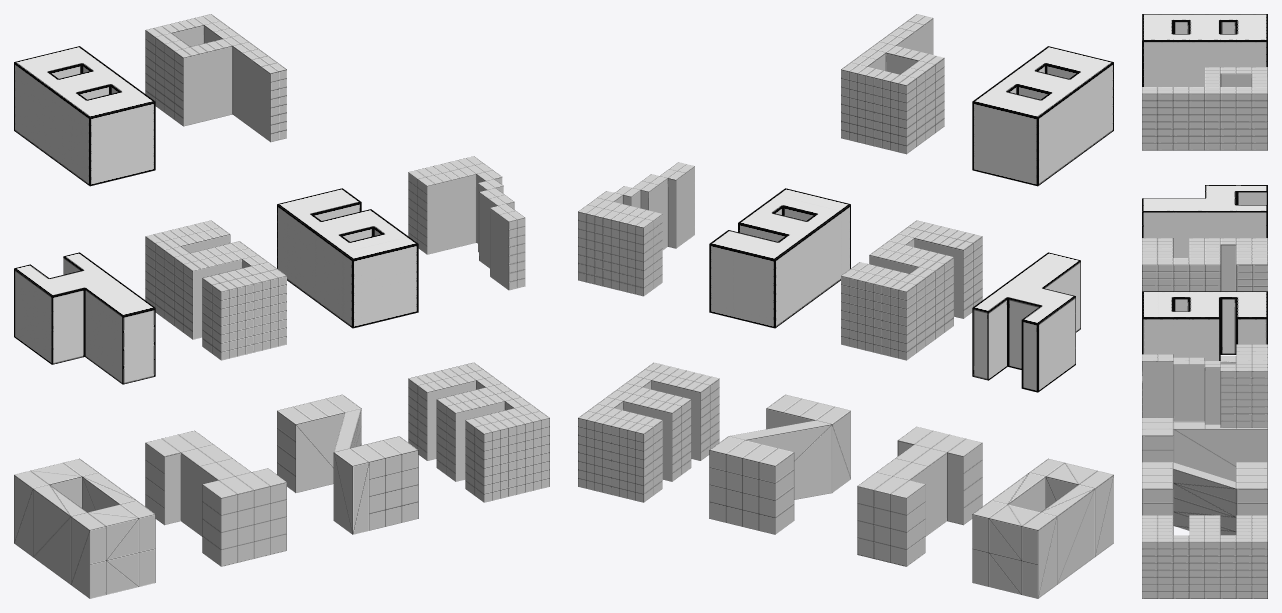
The model's file is cd3-nums.dae.
3 renders of one model, left to right at view 1: azimuth 30°, elevation 25°; view 2: azimuth 150°, elevation 25°; view 3: azimuth 270°, elevation 25°, orthographic. The views are drawn at different scales.
Visible parts, largest first — view 1: num_8, num_0, num_6, num_5, num_3, num_2, num_1, num_4, num_9, num_7; view 2: num_8, num_0, num_6, num_3, num_5, num_2, num_1, num_4, num_7, num_9; view 3: num_3, num_9, num_7, num_6, num_8, num_2, num_5, num_4, num_1.
Part boxes in pixels (<box>): num_8: <box>14,46,155,186</box>; num_0: <box>14,458,155,598</box>; num_6: <box>277,188,418,328</box>; num_5: <box>145,220,286,360</box>; num_3: <box>408,362,549,502</box>; num_2: <box>277,394,418,534</box>; num_1: <box>145,430,286,566</box>; num_4: <box>14,252,155,384</box>; num_9: <box>145,14,286,142</box>; num_7: <box>408,156,525,290</box>; num_8: <box>972,46,1113,186</box>; num_0: <box>972,458,1113,598</box>; num_6: <box>709,188,850,328</box>; num_3: <box>578,362,719,502</box>; num_5: <box>841,220,982,360</box>; num_2: <box>709,394,850,534</box>; num_1: <box>857,426,982,566</box>; num_4: <box>972,252,1080,392</box>; num_7: <box>578,162,694,296</box>; num_9: <box>841,14,944,154</box>; num_3: <box>1142,515,1267,598</box>; num_9: <box>1142,67,1267,150</box>; num_7: <box>1142,344,1267,427</box>; num_6: <box>1142,291,1267,360</box>; num_8: <box>1142,14,1267,86</box>; num_2: <box>1142,462,1267,535</box>; num_5: <box>1142,238,1267,291</box>; num_4: <box>1142,185,1267,257</box>; num_1: <box>1142,418,1267,481</box>.
Size of the model in its own units: 7 by 2 by 7.
10 materials, 10 textured.
